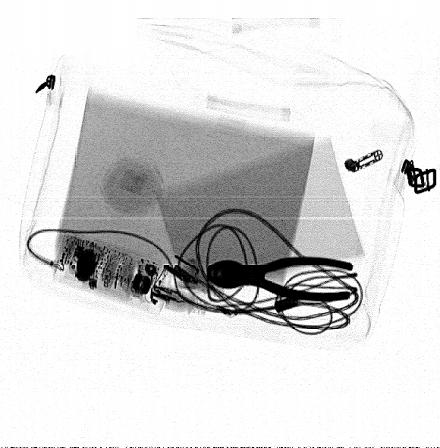Pliers: (206, 255, 354, 303)
